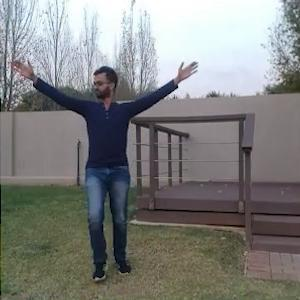takeoff: (7, 54, 205, 287)
